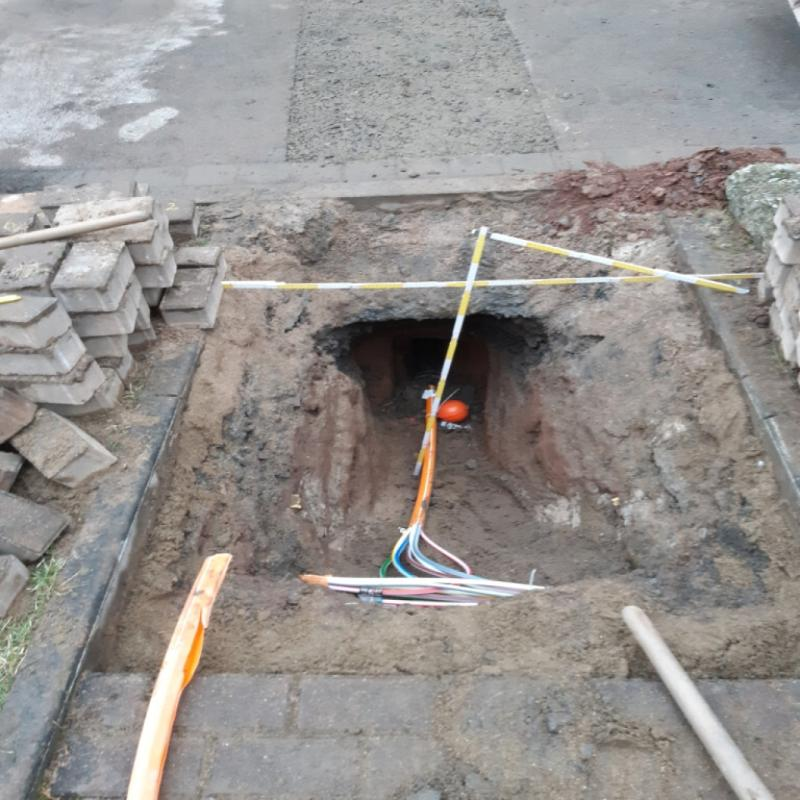Kugelmarker: (440, 400, 470, 424)
Orang-Speednetrohrchen: (392, 399, 441, 562)
